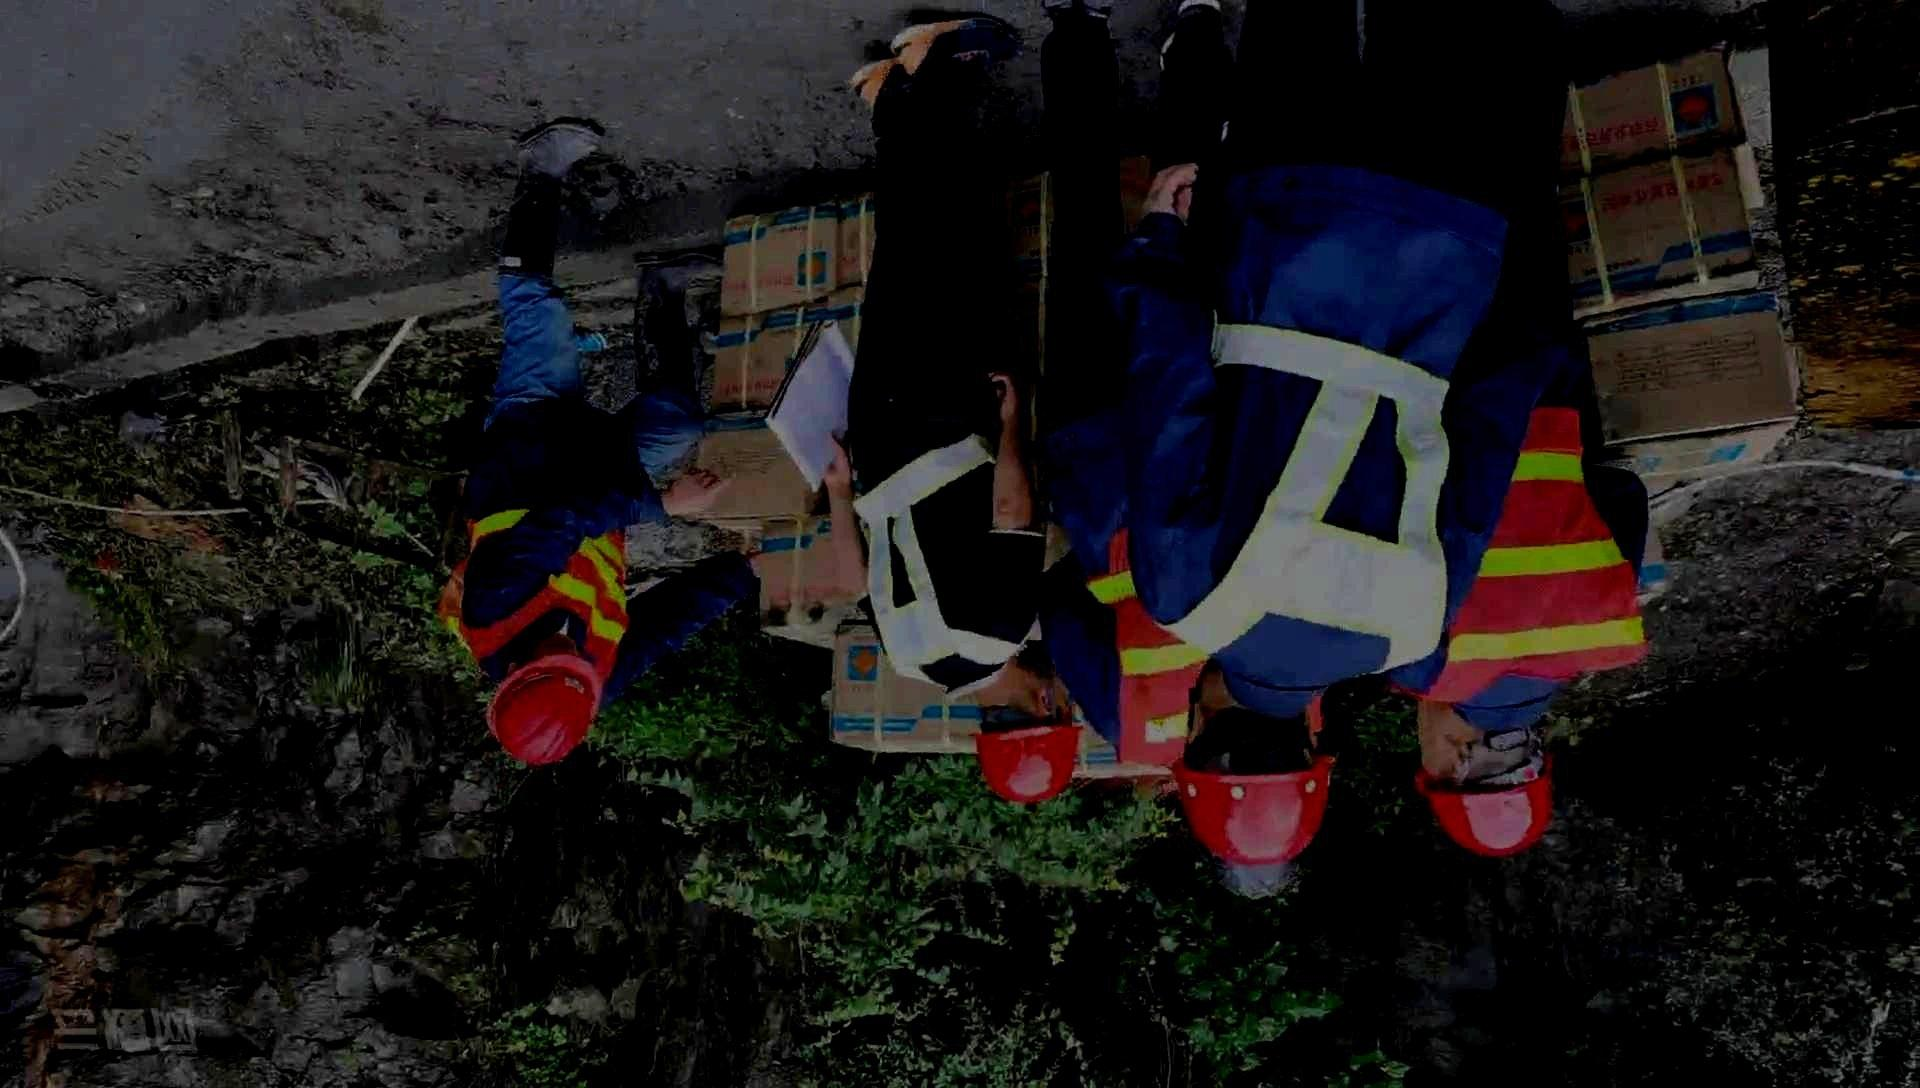helmet: (1168, 658, 1335, 868), (1411, 698, 1553, 856), (484, 634, 603, 766), (973, 673, 1087, 804)
